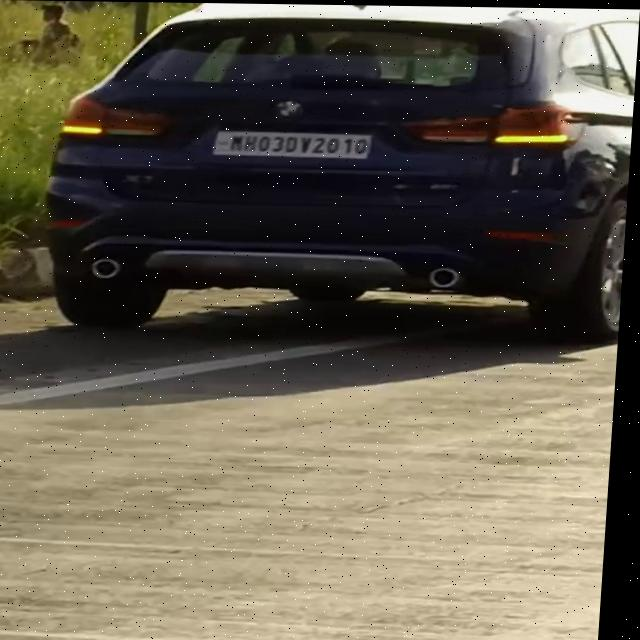plate: (212, 127, 378, 160)
